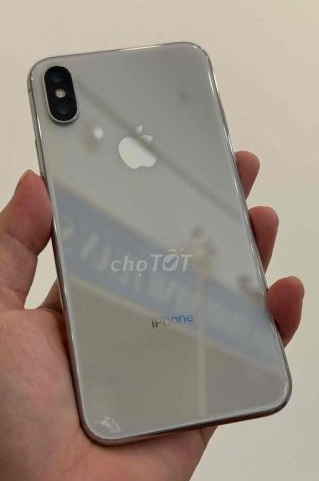physical_damage: (90, 409, 130, 442)
